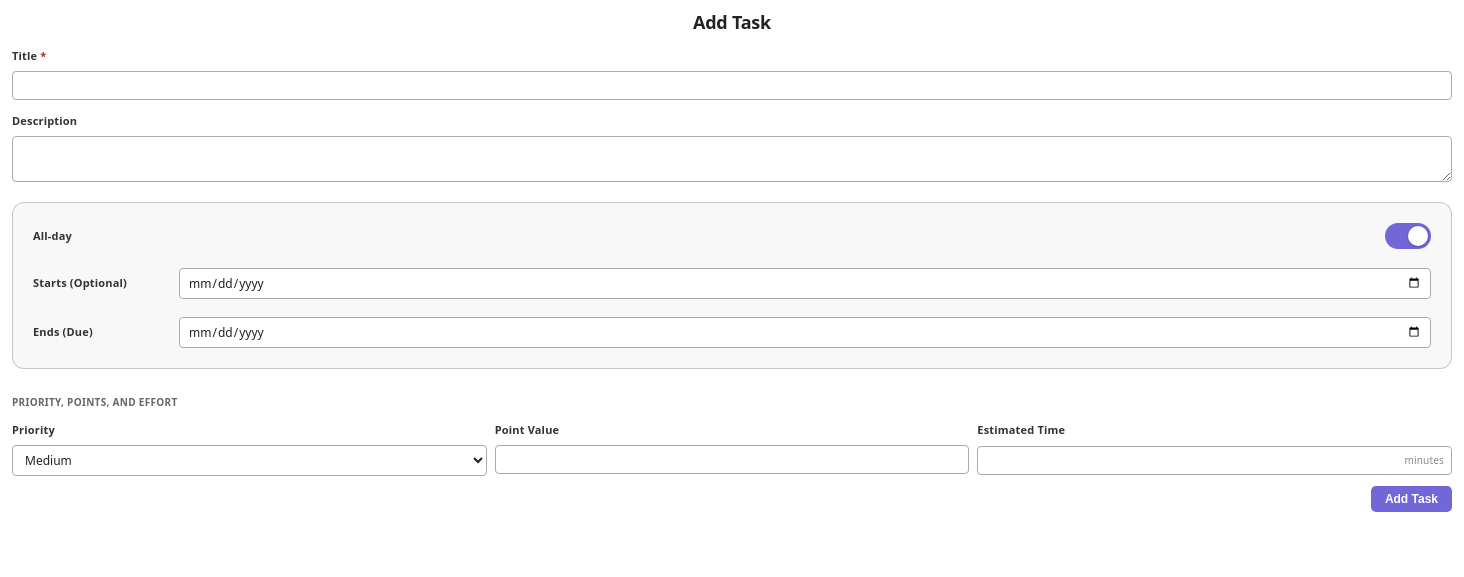
Test case: SCRUM-383: interactive Task Form › creates a task using POST and an authenticated request
Type "Study for midterm" into the field labelled "Title *" at (732, 86), box [12,71,1452,100]
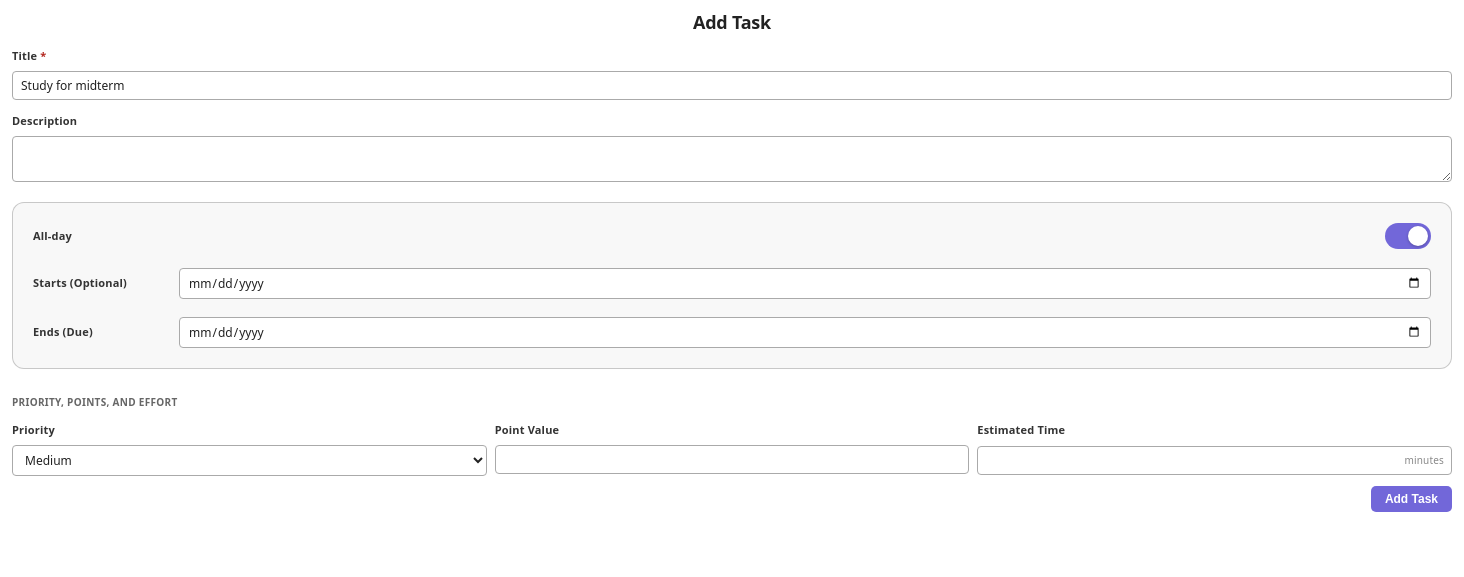
Click the button "Add Task" at (1411, 499), box [1371,486,1452,512]
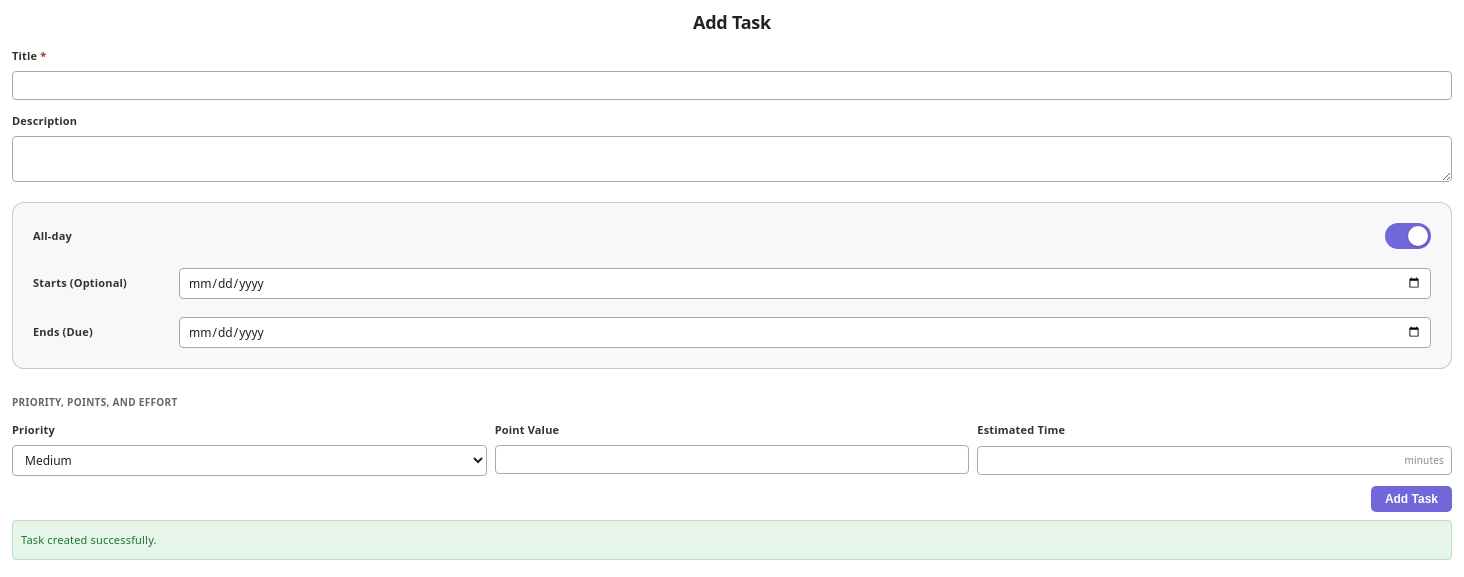
Expected: the message shows "created successfully", [21,532,157,547]
